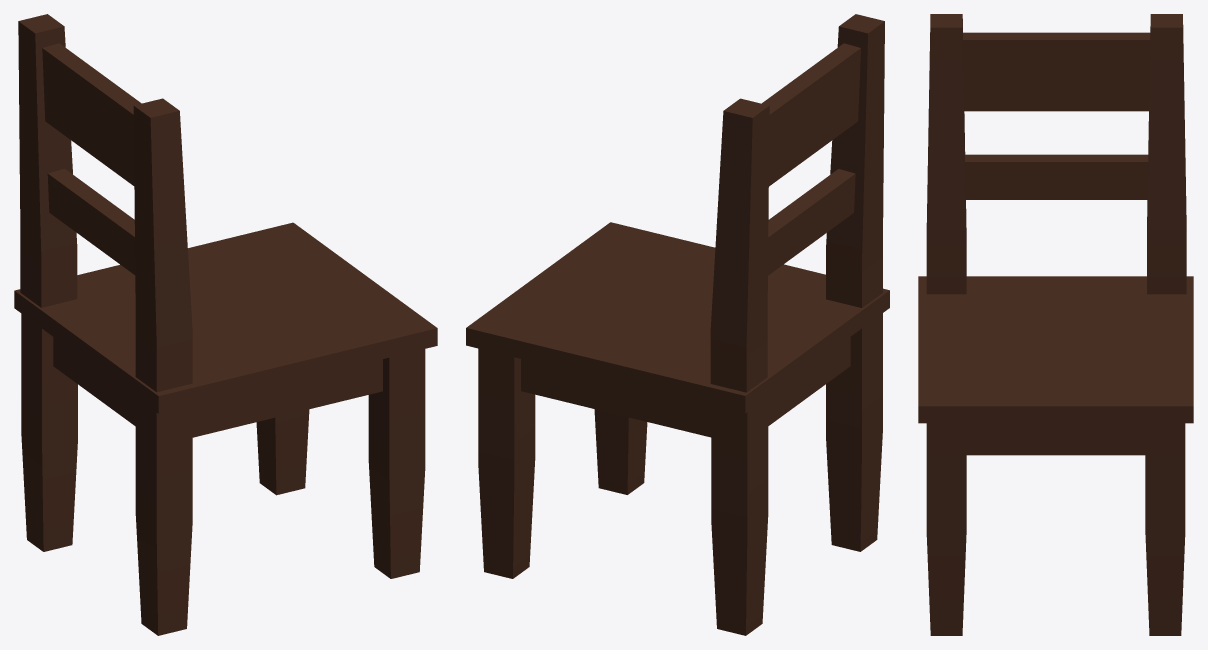
File: furniture_chair.fbx
3 renders of one model, left to right at view 1: azimuth 30°, elevation 25°; view 2: azimuth 150°, elevation 25°; view 3: azimuth 270°, elevation 25°, orthographic. The views are drawn at different scales.
Visible parts, largest first — view 1: chair; view 2: chair; view 3: chair.
Boxes of the visible parts, box(x1,y1,x2,y2) form: chair: box(14, 14, 437, 635); chair: box(466, 14, 889, 635); chair: box(918, 14, 1193, 635).
Size of the model in its own units: 16.34 by 28.93 by 14.55.
